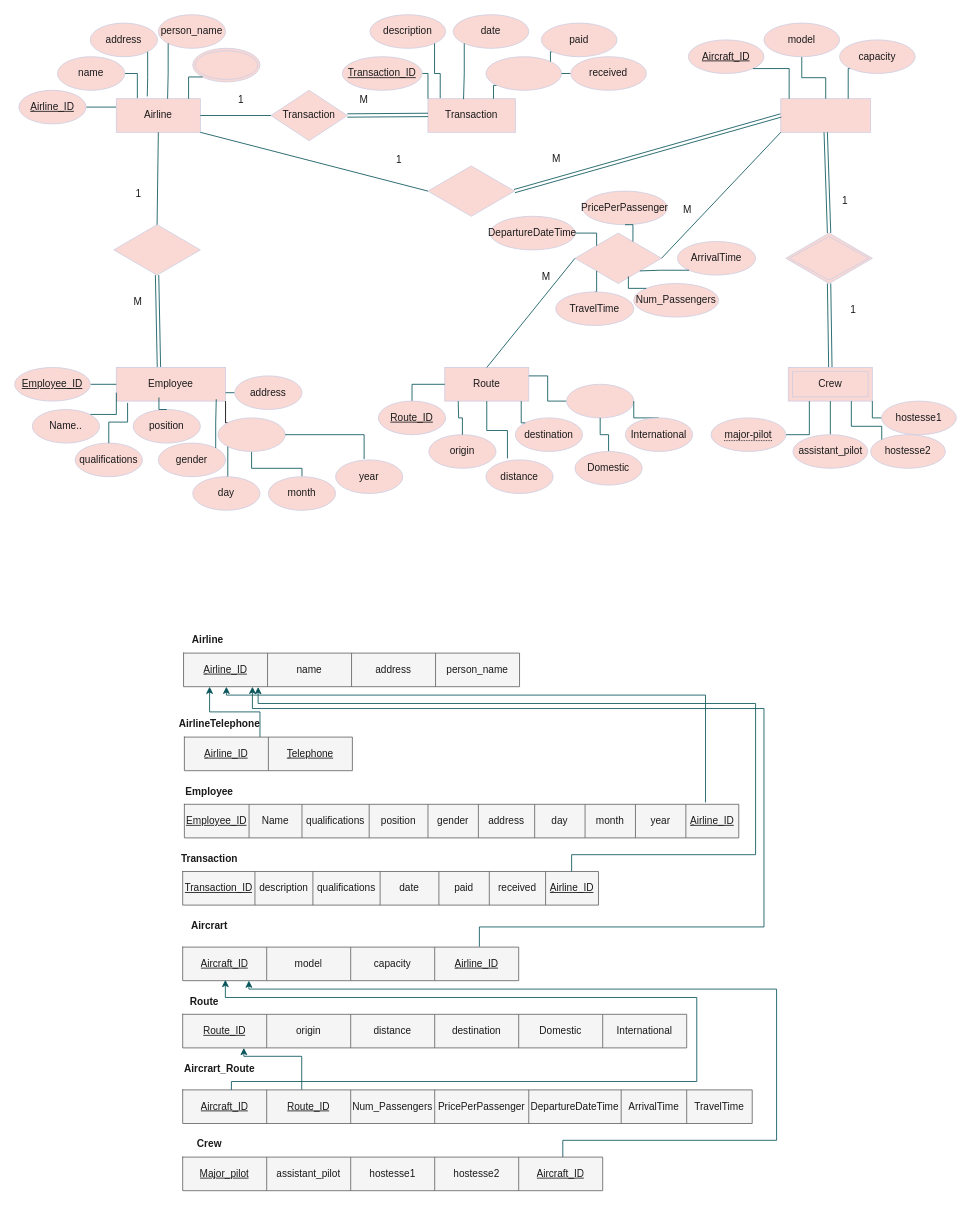
This 971x1205 diagram has some shape labels left out. Here are the shapes that lost their labels. From the top down, the centre of each, then its label:
At (226,64): "telephone".
At (523,73): "amount".
At (825,115): "Aircraft".
At (470,190): "Own".
At (156,249): "Works_in".
At (618,258): "Assigns".
At (828,258): "Has".
At (600,400): "classification".
At (251,434): "birthday".
